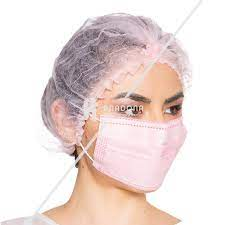with_mask_and_cap: (44, 15, 186, 196)
